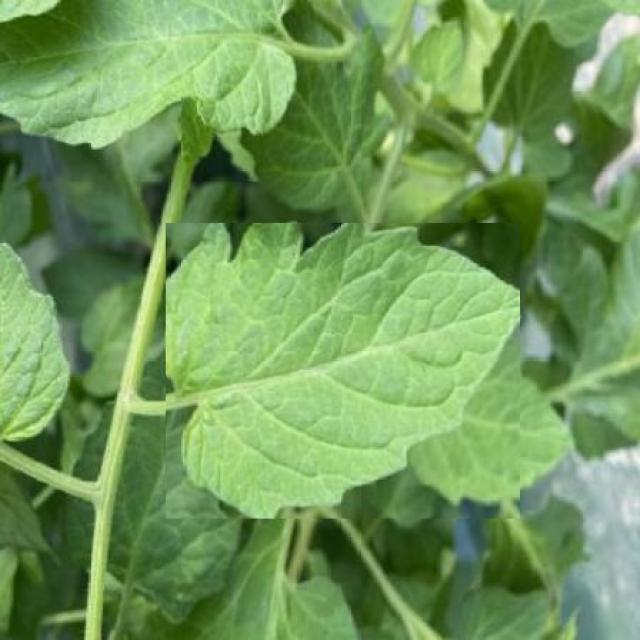Healthy: (165, 223, 520, 518)
